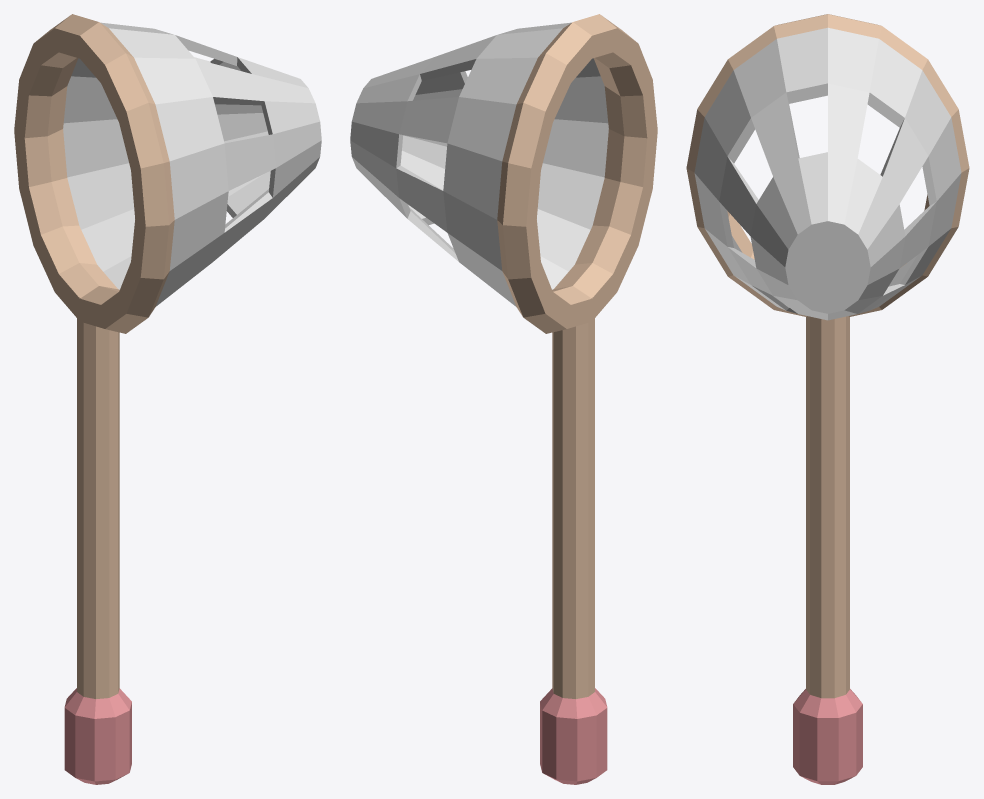
The model's file is Sachock.fbx.
3 views of the same model, side by side, from view 1: azimuth 30°, elevation 25°; view 2: azimuth 150°, elevation 25°; view 3: azimuth 270°, elevation 25° (orthographic).
Visible parts, largest first — view 1: Circle, Cylinder; view 2: Circle, Cylinder; view 3: Circle, Cylinder.
Boxes of the visible parts, x1,y1,x2,y2 form: Circle: [14, 14, 321, 333]; Cylinder: [64, 297, 131, 784]; Circle: [350, 14, 657, 333]; Cylinder: [540, 297, 607, 784]; Circle: [686, 14, 969, 320]; Cylinder: [793, 316, 862, 784].
Bounding box in the file's own units: 270 × 843 × 283.
